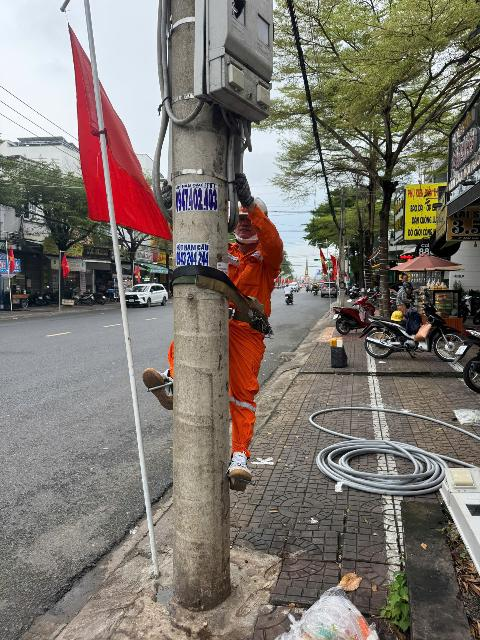gloves: (152, 177, 181, 217), (231, 170, 255, 212)
harness: (209, 287, 283, 344)
shoes: (212, 437, 259, 493), (132, 365, 181, 418)
